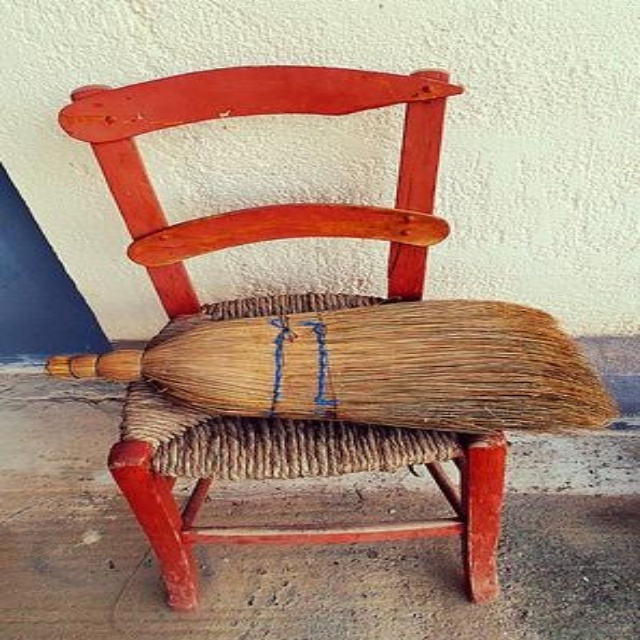obstacle: (50, 65, 614, 610)
